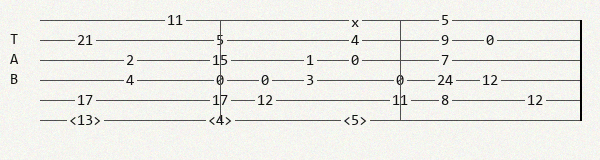0: (216, 73, 228, 87), (261, 73, 273, 87), (351, 53, 363, 67), (396, 73, 408, 87), (486, 33, 498, 47)
1: (306, 53, 318, 67)
11: (167, 13, 187, 27), (392, 93, 412, 107)
12: (257, 93, 277, 107), (482, 73, 502, 87), (527, 93, 547, 107)
15: (212, 53, 232, 67)
17: (77, 93, 97, 107), (212, 93, 232, 107)
2: (126, 53, 138, 67)
21: (77, 33, 97, 47)
24: (437, 73, 457, 87)
3: (306, 73, 318, 87)
4: (126, 73, 138, 87), (351, 33, 363, 47)
5: (216, 33, 228, 47), (441, 13, 453, 27)
7: (441, 53, 453, 67)
8: (441, 93, 453, 107)
9: (441, 33, 453, 47)
harmonic: (69, 113, 105, 127), (208, 113, 236, 127), (343, 113, 371, 127)
x: (351, 15, 363, 26)
